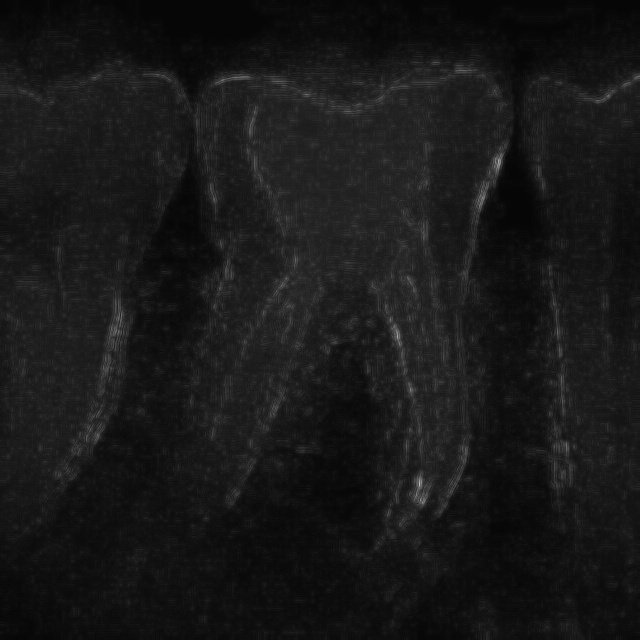Class 0- No endodontic treatment: (170, 45, 534, 588)
